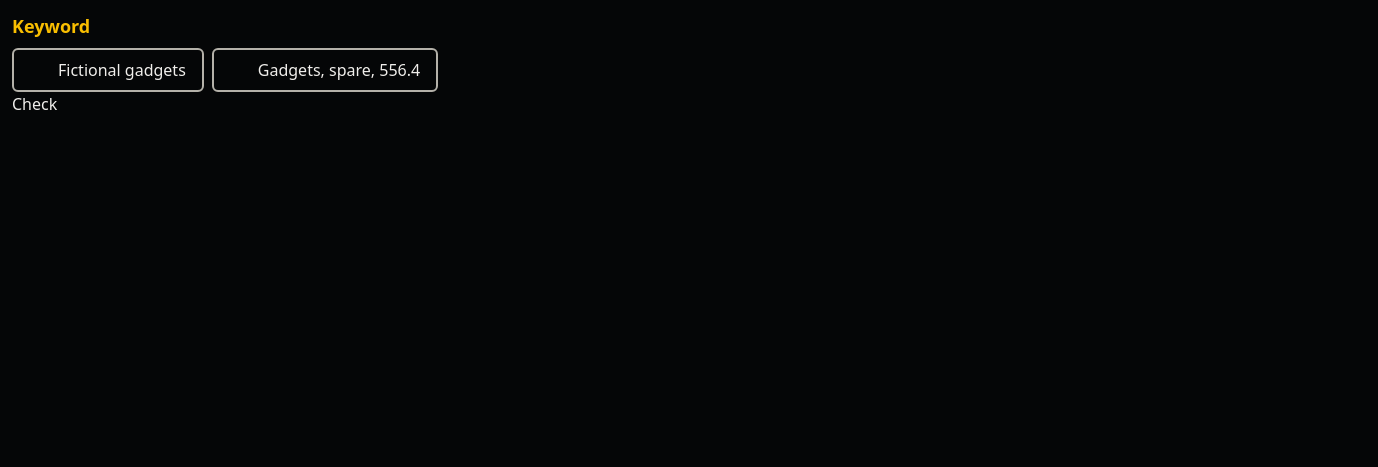
Scenario: StepFlow under Index Keyword Lookup › keeps the first Index click when the second changes, clearing later picks
The width and height of the screenshot is (1378, 467).
Click the button "Fictional gadgets".
click(108, 70)  # box [12,48,204,92]
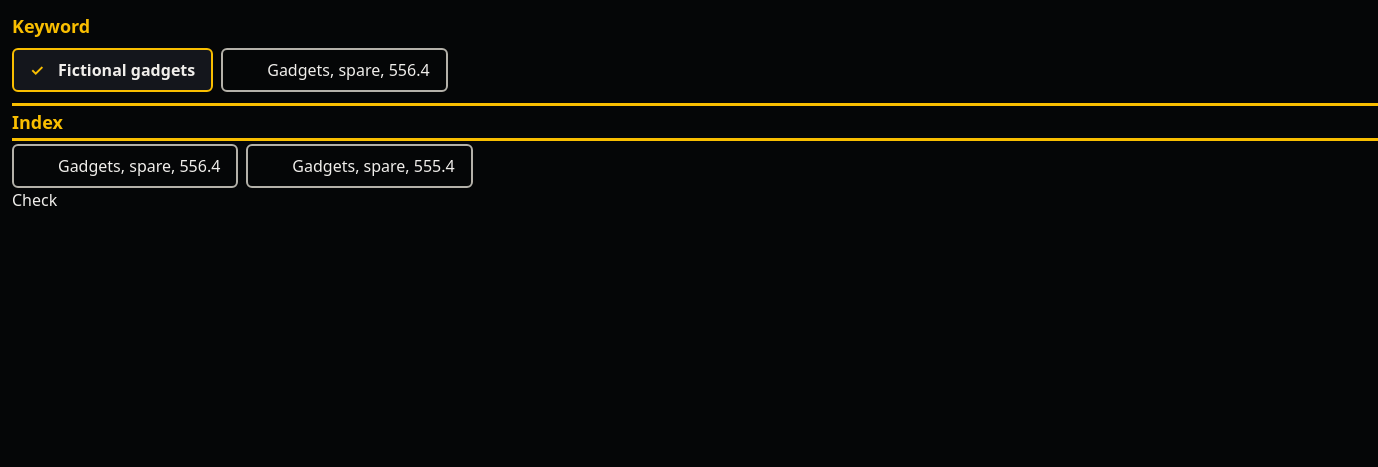
Click the button "Gadgets, spare, 555.4".
click(360, 166)  # box [246,144,473,188]
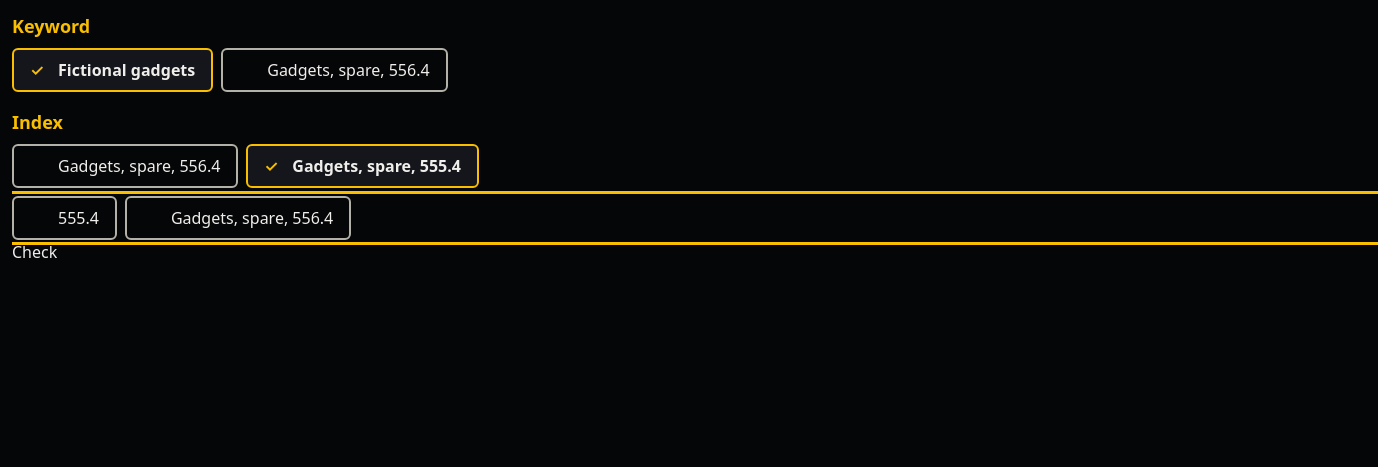
Click the button "555.4".
click(64, 218)  # box [12,196,117,240]
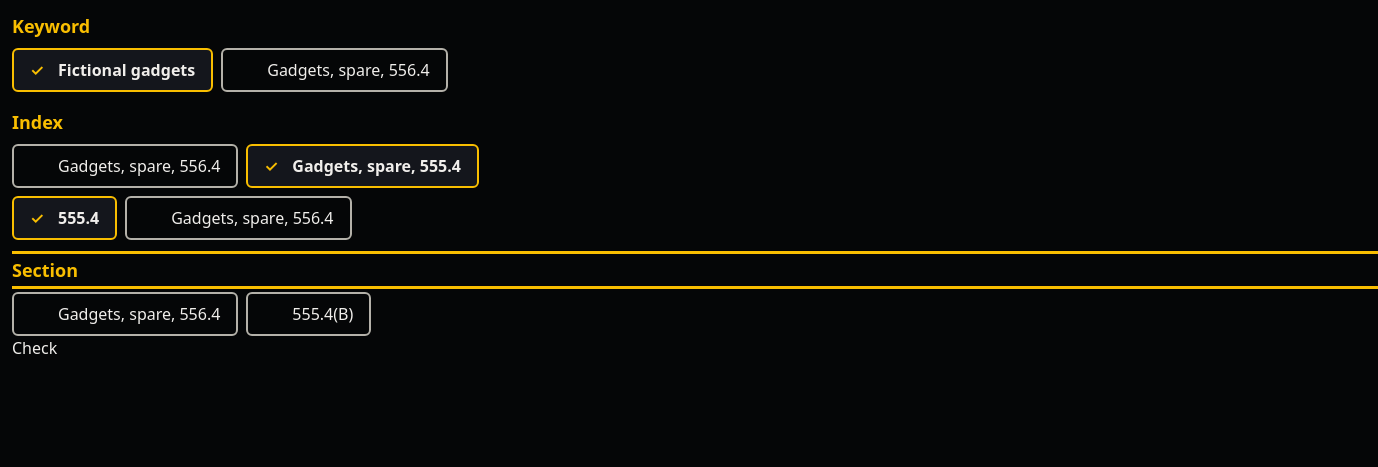
Click the button "555.4(B)".
click(309, 314)  # box [246,292,371,336]
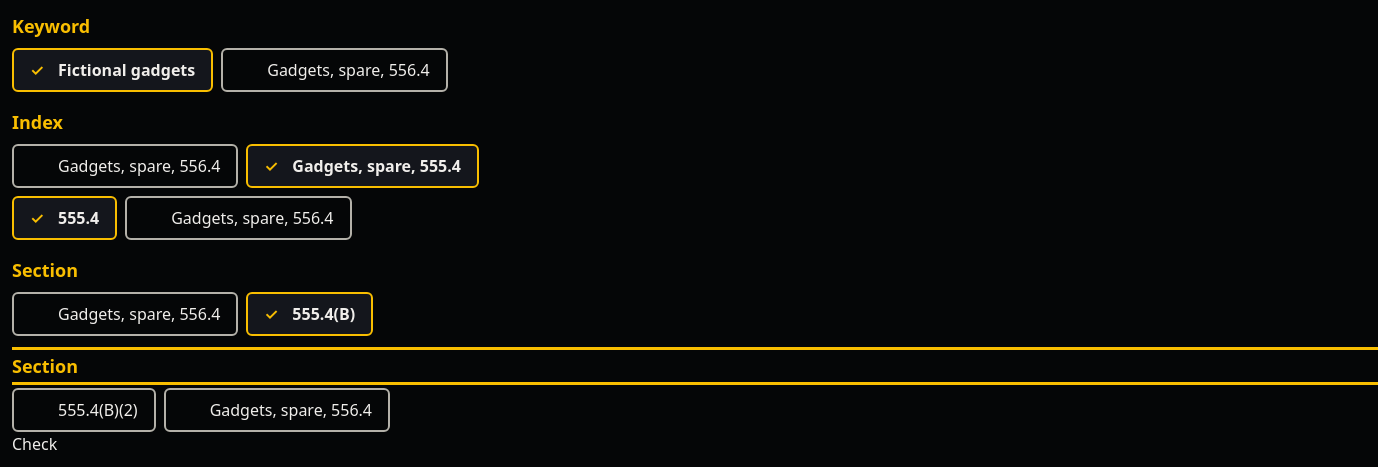
Click the button "555.4(B)(2)".
click(84, 410)  # box [12,388,156,432]
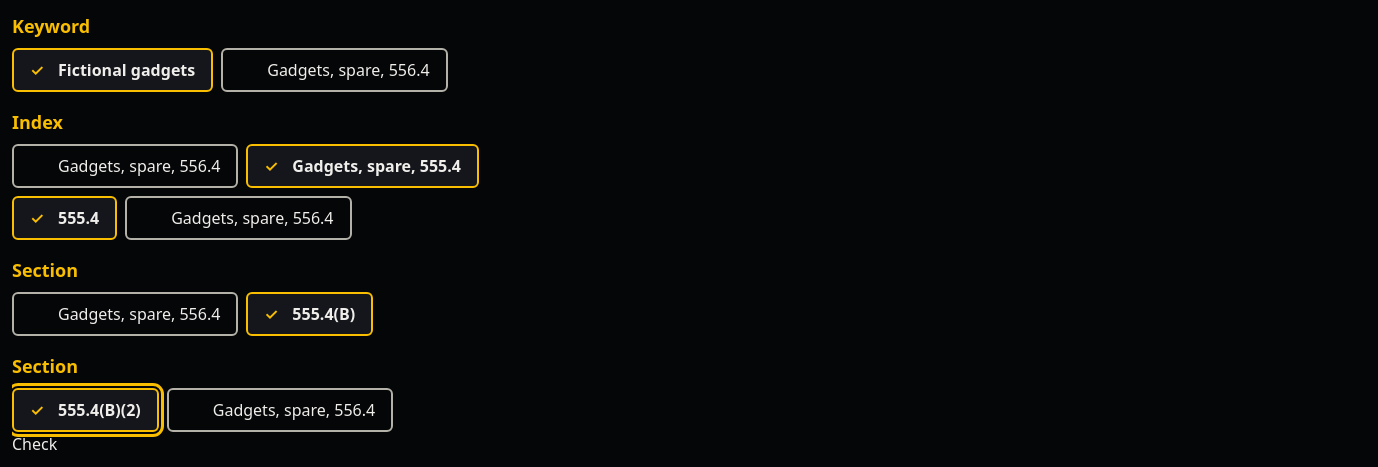
Click the button "✓ 555.4".
click(65, 218)  # box [12,196,117,240]
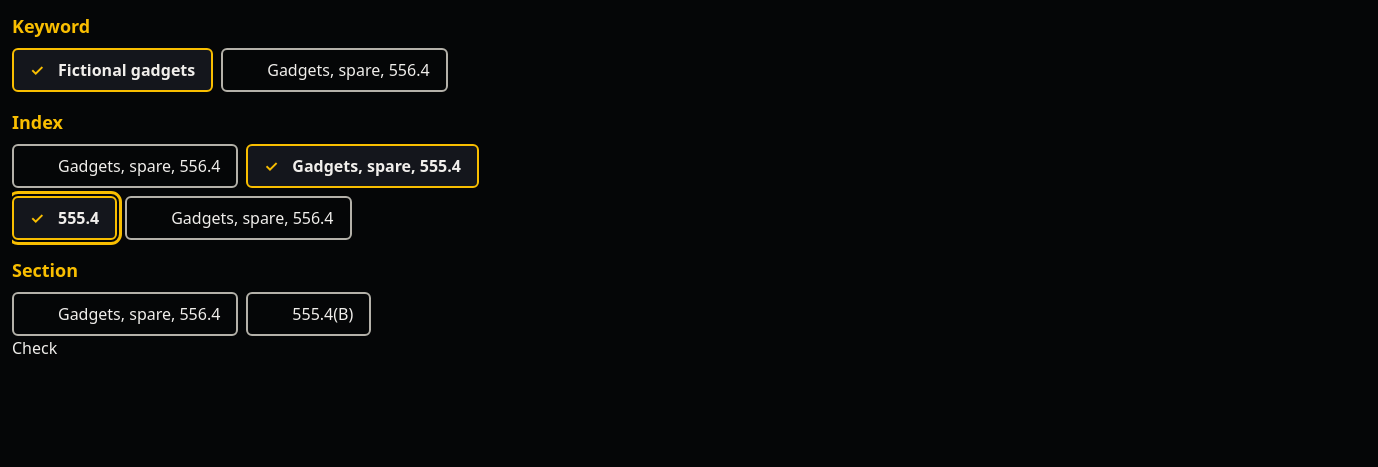
Now the button "Check" is disabled, box [12,336,57,360]
